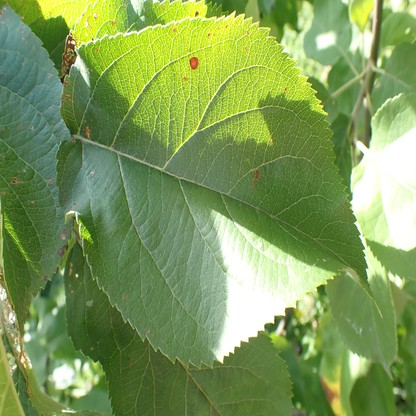frogeye_leaf_spot: (61, 35, 78, 78), (189, 55, 199, 69), (57, 244, 69, 254), (253, 167, 260, 182), (61, 228, 68, 239)
